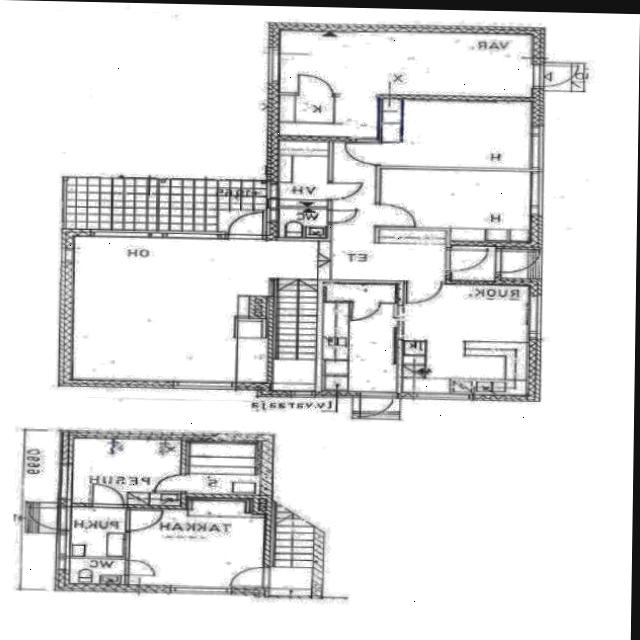room: (279, 30, 532, 98), (403, 283, 529, 395), (129, 496, 265, 588), (380, 169, 530, 242), (381, 99, 530, 169), (72, 438, 182, 506), (323, 303, 397, 392), (279, 96, 378, 138), (186, 442, 261, 495), (280, 141, 328, 200), (71, 507, 126, 557), (450, 246, 496, 281), (279, 209, 327, 238), (70, 559, 125, 584), (326, 284, 395, 302), (501, 249, 530, 279)
